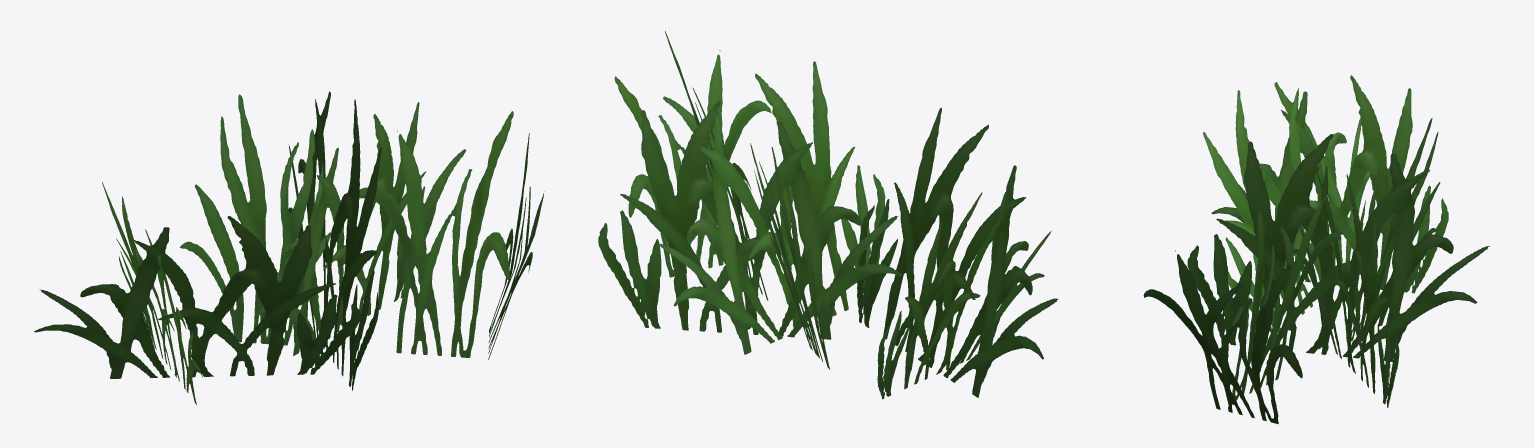
Rendered from scene_lawennushandao_zhiwu10.FBX.
The picture shows the model from 3 angles, left to right: view 1: azimuth 30°, elevation 25°; view 2: azimuth 150°, elevation 25°; view 3: azimuth 270°, elevation 25°; orthographic projection. The views are drawn at different scales.
Visible parts, largest first — view 1: scene_lawennushandao_zhiwu10; view 2: scene_lawennushandao_zhiwu10; view 3: scene_lawennushandao_zhiwu10.
Boxes of the visible parts, x1,y1,x2,y2 form: scene_lawennushandao_zhiwu10: (34,91,544,404); scene_lawennushandao_zhiwu10: (598,31,1058,399); scene_lawennushandao_zhiwu10: (1143,75,1489,424).
Size of the model in its own units: 161 by 80.22 by 118.
